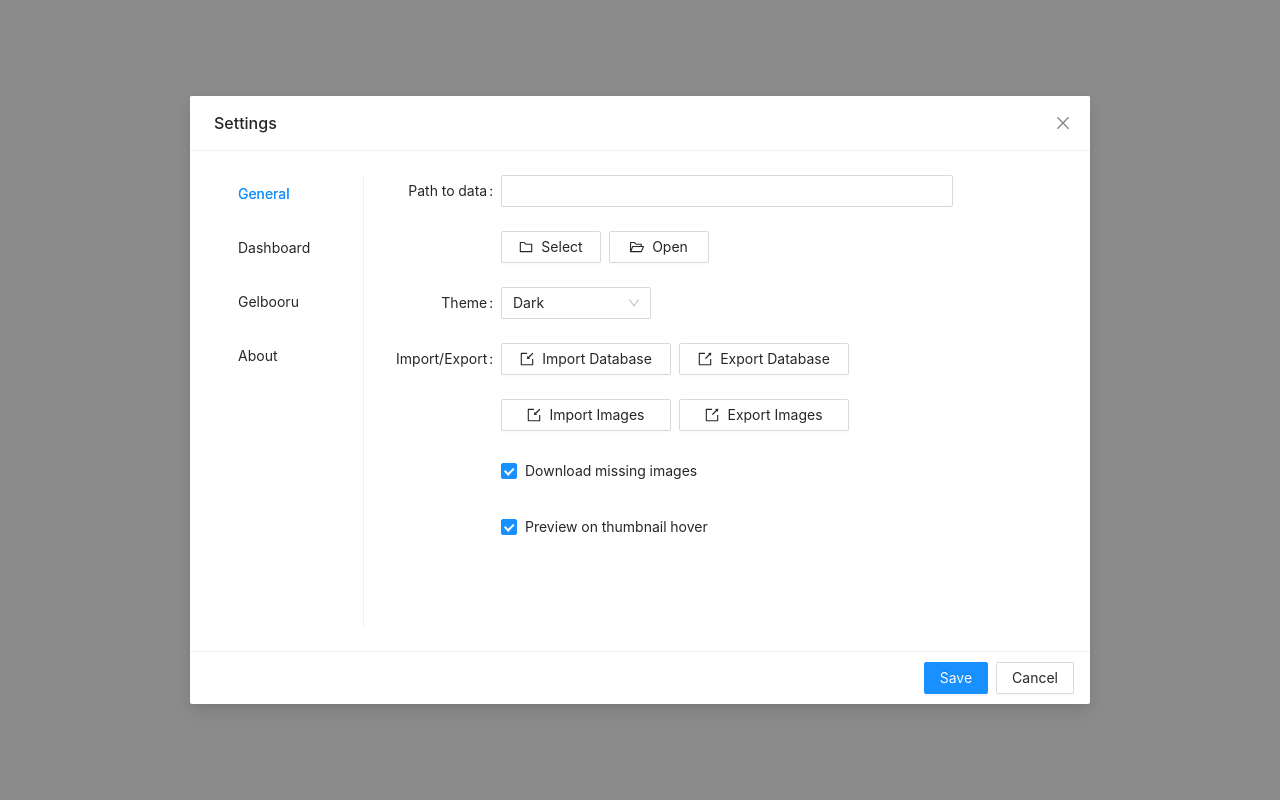
Test: settings/SettingsModal › Switches to Gelbooru tab
Click the tab "Gelbooru" at {"x": 268, "y": 302}, box [238,291,299,313]
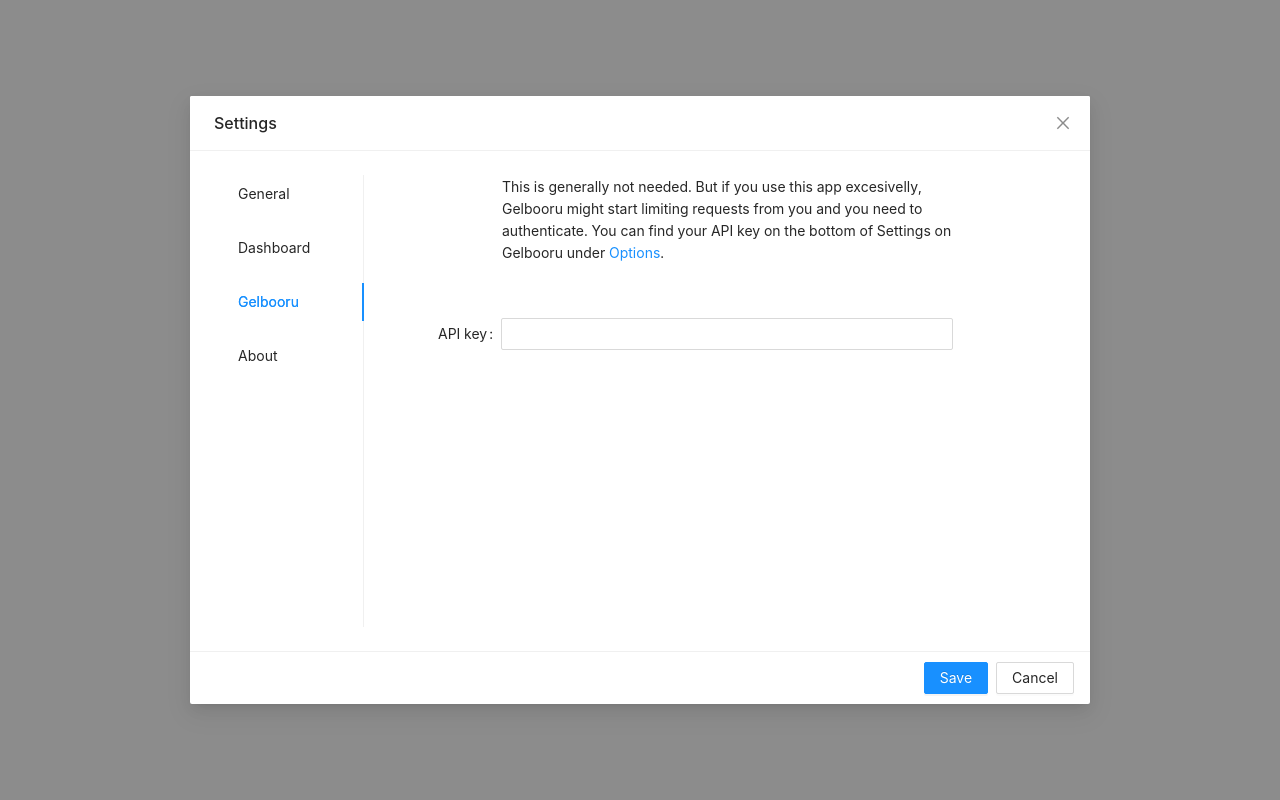
Now the text "API key" is shown, box [438,318,501,350]
